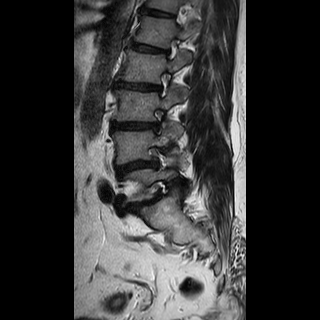LFS0: (148, 65, 174, 99), (157, 33, 183, 64)
LFS2: (141, 100, 170, 137)
